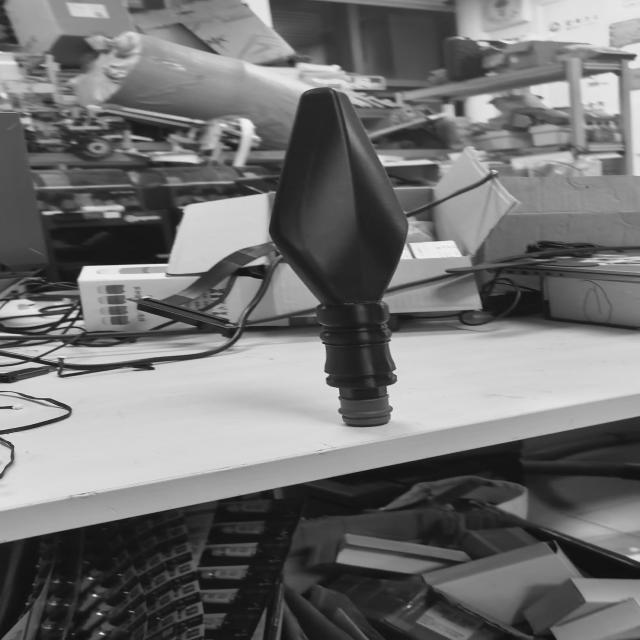base: (338, 396, 394, 426)
